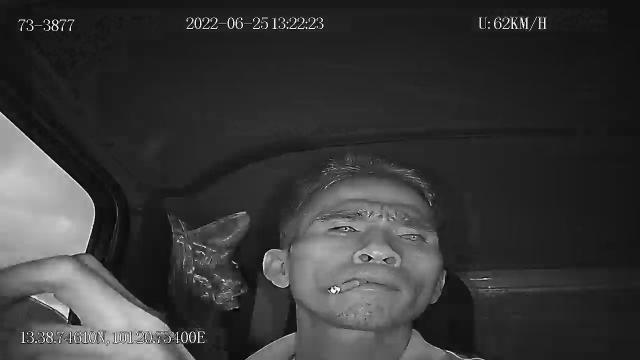SafeDriving: (321, 216, 367, 239), (389, 224, 434, 247)
Smoking: (327, 280, 367, 295)
